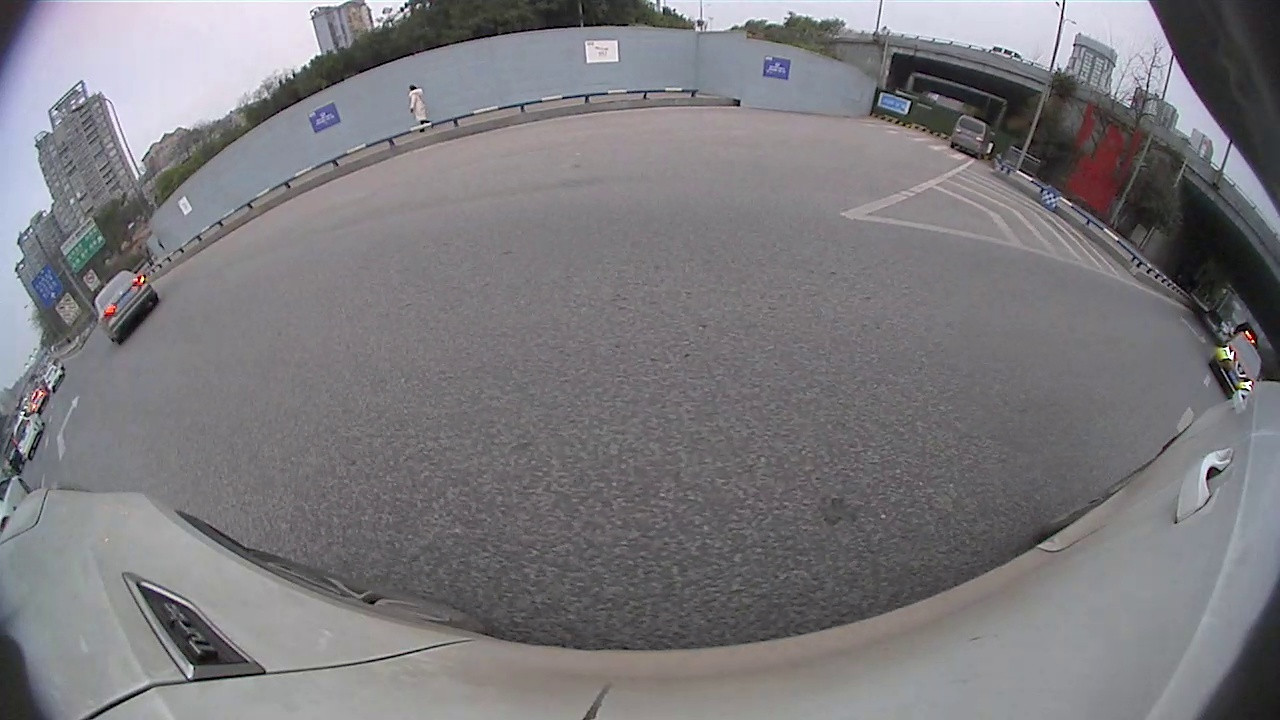car: (93, 268, 161, 346), (1208, 330, 1264, 399), (949, 113, 994, 159), (11, 408, 46, 461), (42, 364, 67, 394)
person: (408, 84, 423, 123)
